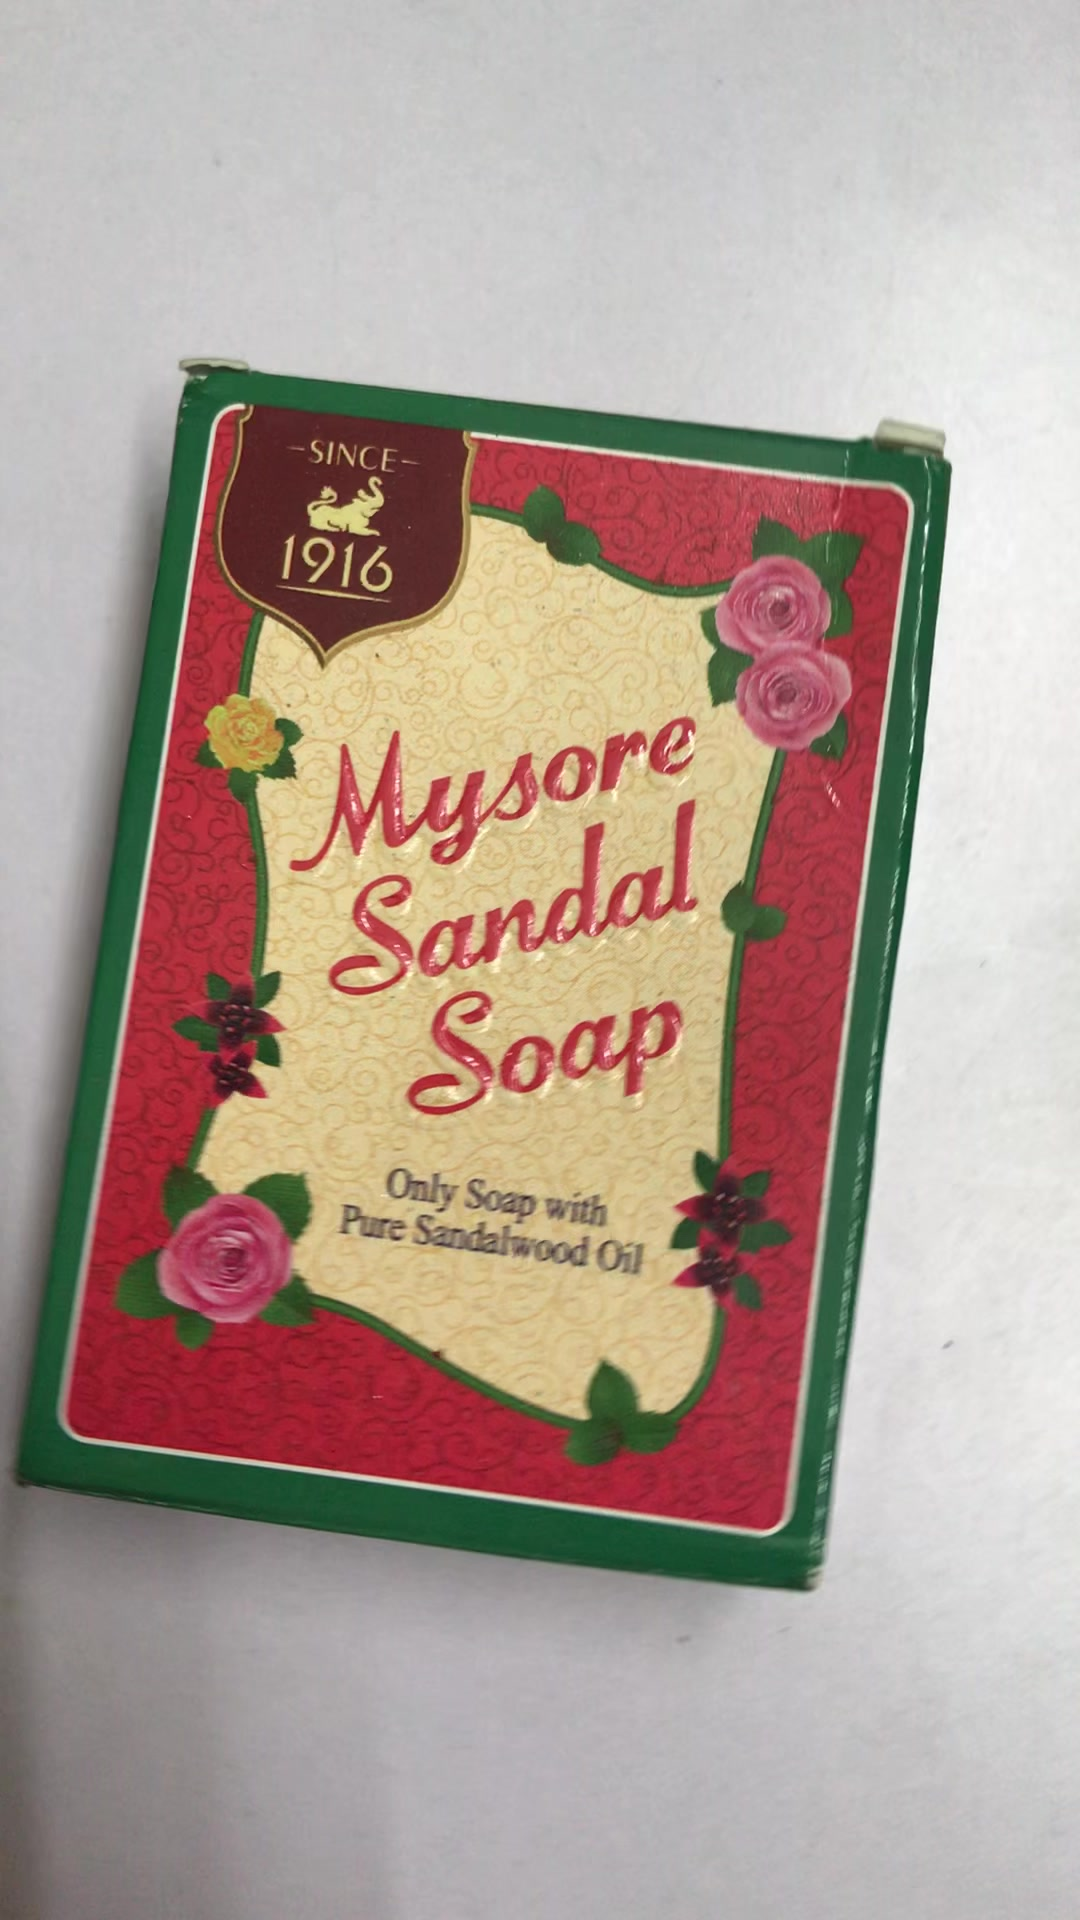mysore sandal soap: (7, 361, 951, 1598)
